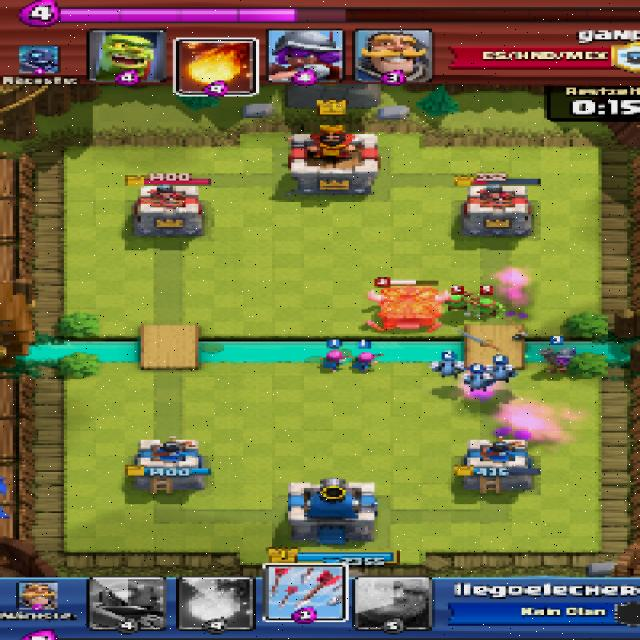Enemy-GoblinHut: (360, 284, 457, 331)
Enemy-SpearGoblin: (469, 299, 504, 318), (441, 292, 470, 313)
Player-Archer: (350, 352, 382, 373), (317, 351, 348, 371)
Player-Minion: (462, 367, 497, 392), (429, 356, 468, 376), (483, 362, 519, 381)
Player-Musketeer: (538, 347, 577, 374)
